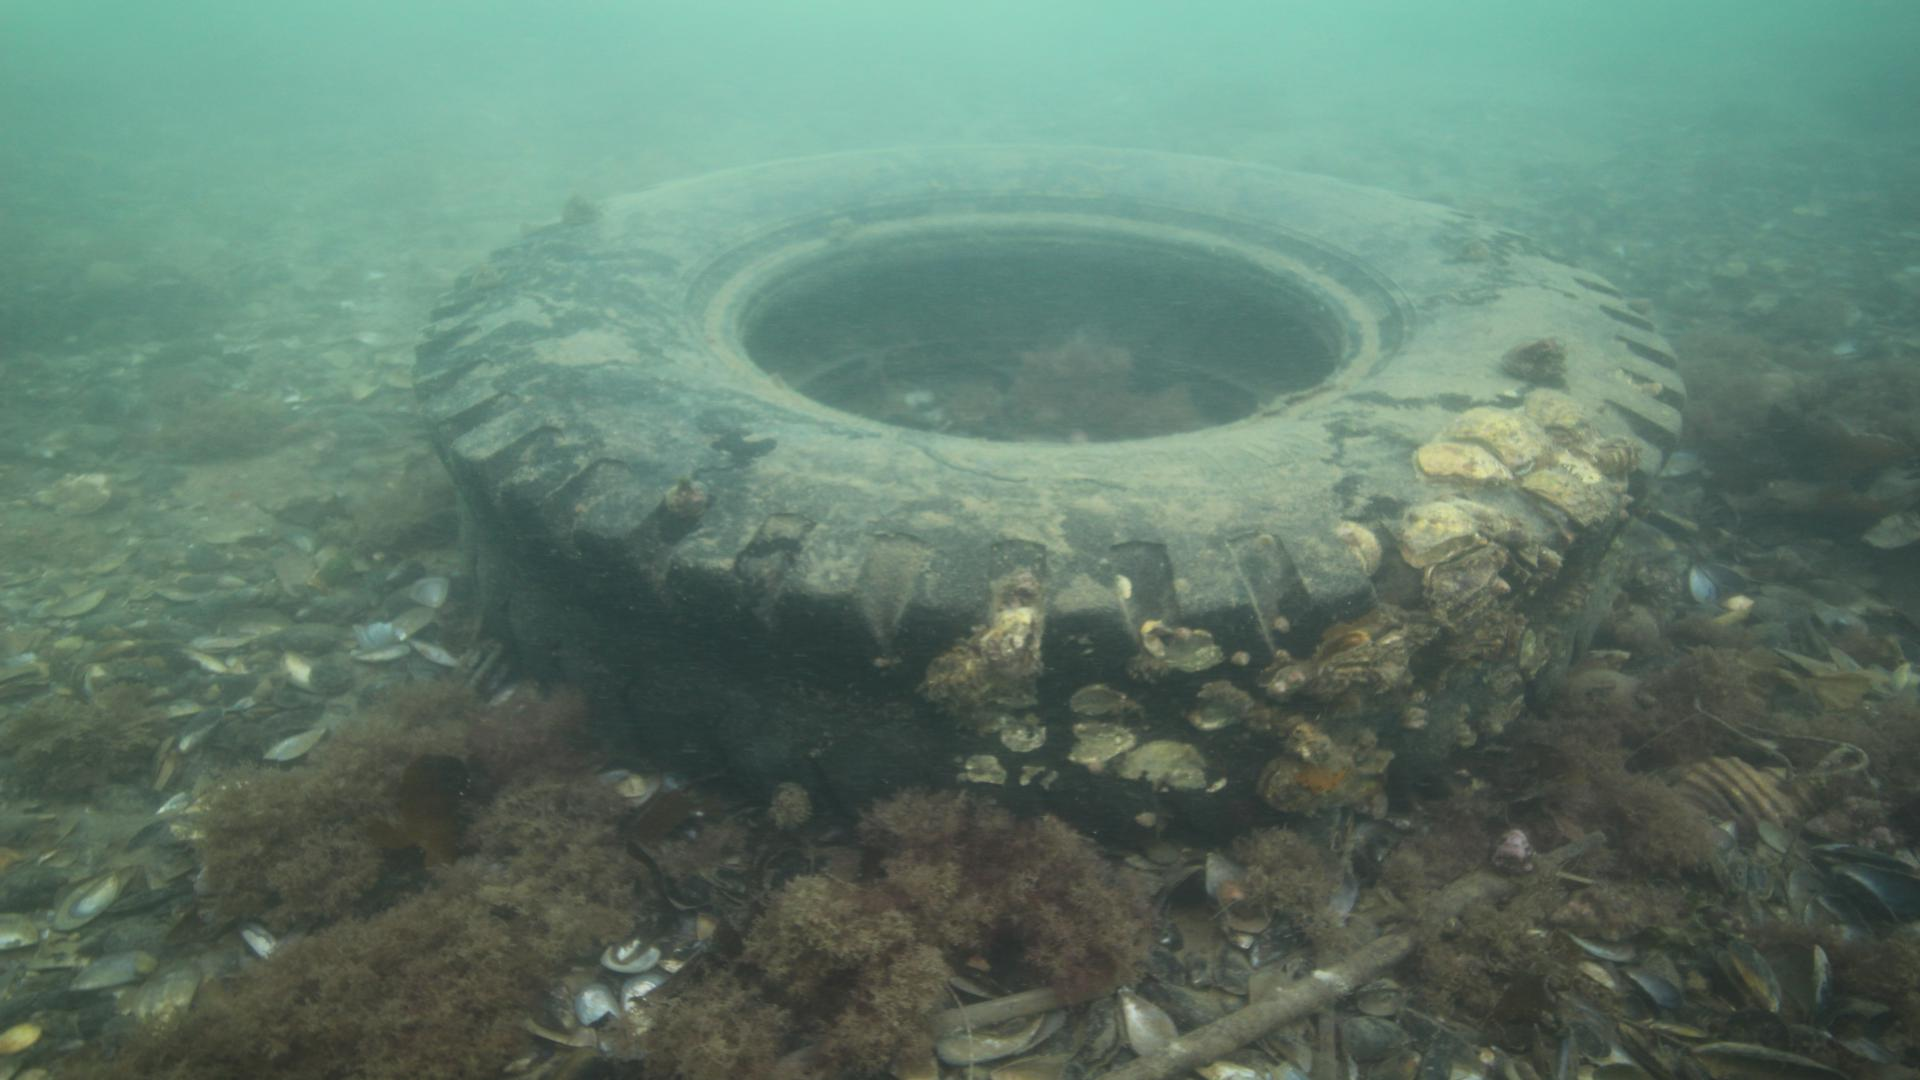tire: (407, 140, 1688, 845)
